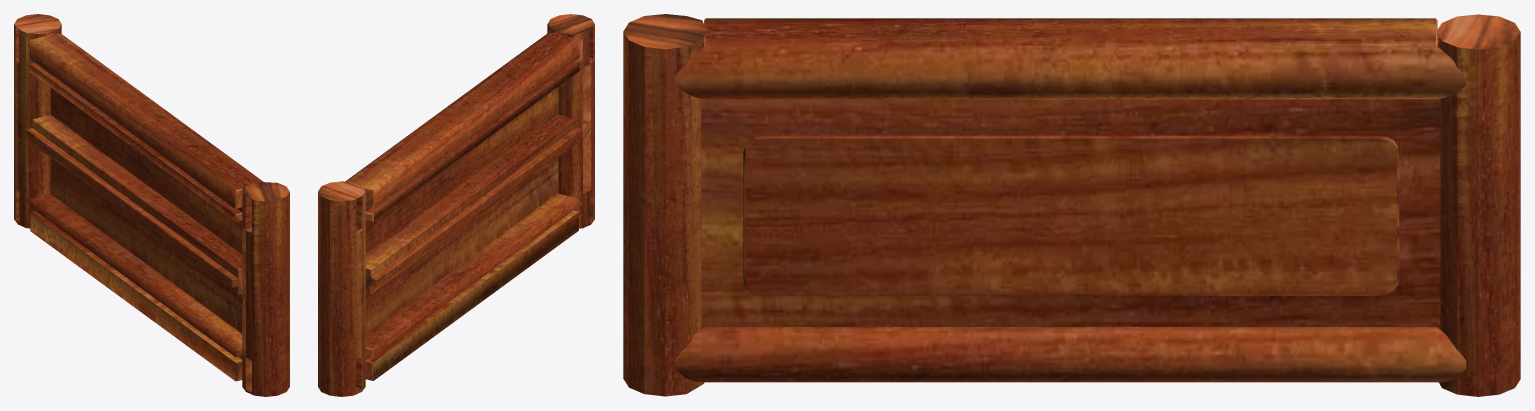
The model's file is SJ_J_H_ceban_01.FBX.
3 views of the same model, side by side, from view 1: azimuth 30°, elevation 25°; view 2: azimuth 150°, elevation 25°; view 3: azimuth 270°, elevation 25° (orthographic). The views are drawn at different scales.
Parts seen in each view (by area): view 1: SJ_J_H_ceban_01; view 2: SJ_J_H_ceban_01; view 3: SJ_J_H_ceban_01.
Boxes of the visible parts, x1,y1,x2,y2 form: SJ_J_H_ceban_01: [14, 14, 289, 396]; SJ_J_H_ceban_01: [318, 14, 594, 396]; SJ_J_H_ceban_01: [623, 14, 1520, 396].
Bounding box in the file's own units: 4.34 × 18.34 × 42.94.
